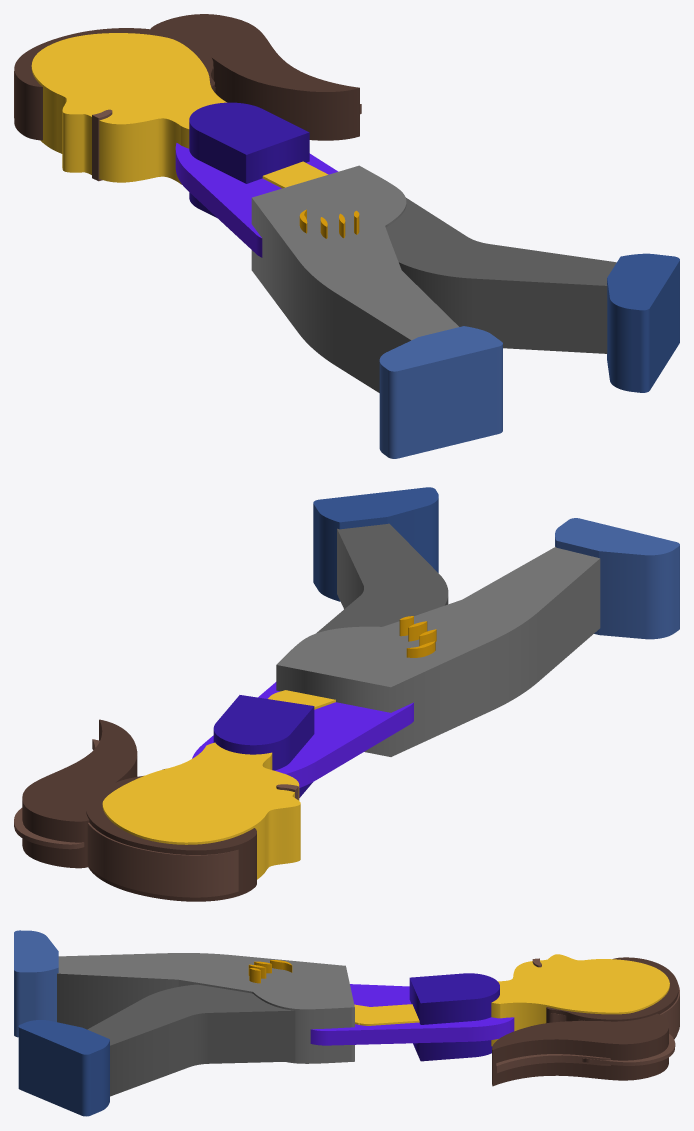
File: emoji_u1f6b6_200d_2640.glb
3 renders of one model, top to bottom at view 1: azimuth 30°, elevation 25°; view 2: azimuth 150°, elevation 25°; view 3: azimuth 270°, elevation 25°, orthographic. The views are drawn at different scales.
Visible parts, largest first — view 1: emoji_u1f6b6_200d_2640; view 2: emoji_u1f6b6_200d_2640; view 3: emoji_u1f6b6_200d_2640.
Boxes of the visible parts, <box> form: emoji_u1f6b6_200d_2640: <box>14,14,679,458</box>; emoji_u1f6b6_200d_2640: <box>14,487,679,901</box>; emoji_u1f6b6_200d_2640: <box>14,930,679,1116</box>.
Size of the model in its own units: 0.0144 by 0.0044 by 0.0332.
